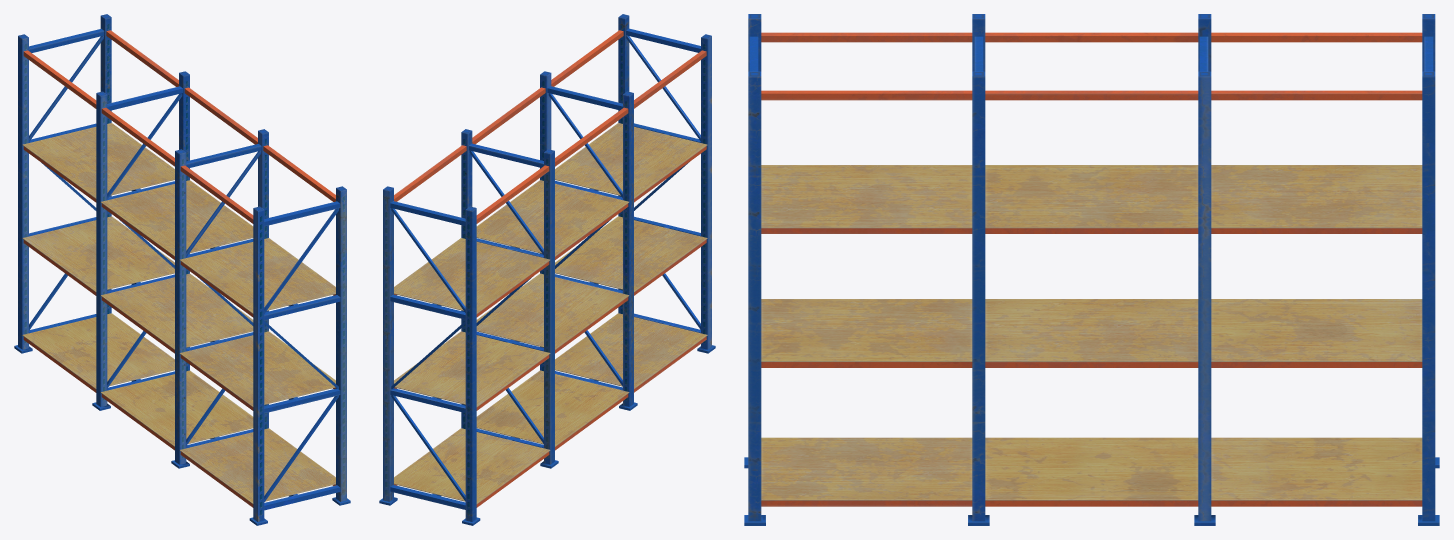
Rendered from sceneEdit.gltf.
The picture shows the model from 3 angles, left to right: view 1: azimuth 30°, elevation 25°; view 2: azimuth 150°, elevation 25°; view 3: azimuth 270°, elevation 25°; orthographic projection. The views are drawn at different scales.
Parts seen in each view (by area): view 1: Storage_Rack_Solid Glass_0; view 2: Storage_Rack_Solid Glass_0; view 3: Storage_Rack_Solid Glass_0.
Part boxes in pixels (x1,y1,x2,y2): Storage_Rack_Solid Glass_0: (14, 14, 350, 525); Storage_Rack_Solid Glass_0: (379, 14, 715, 525); Storage_Rack_Solid Glass_0: (744, 14, 1439, 525).
Size of the model in its own units: 2.85 by 9.1 by 12.8.
1 material, 1 textured.
